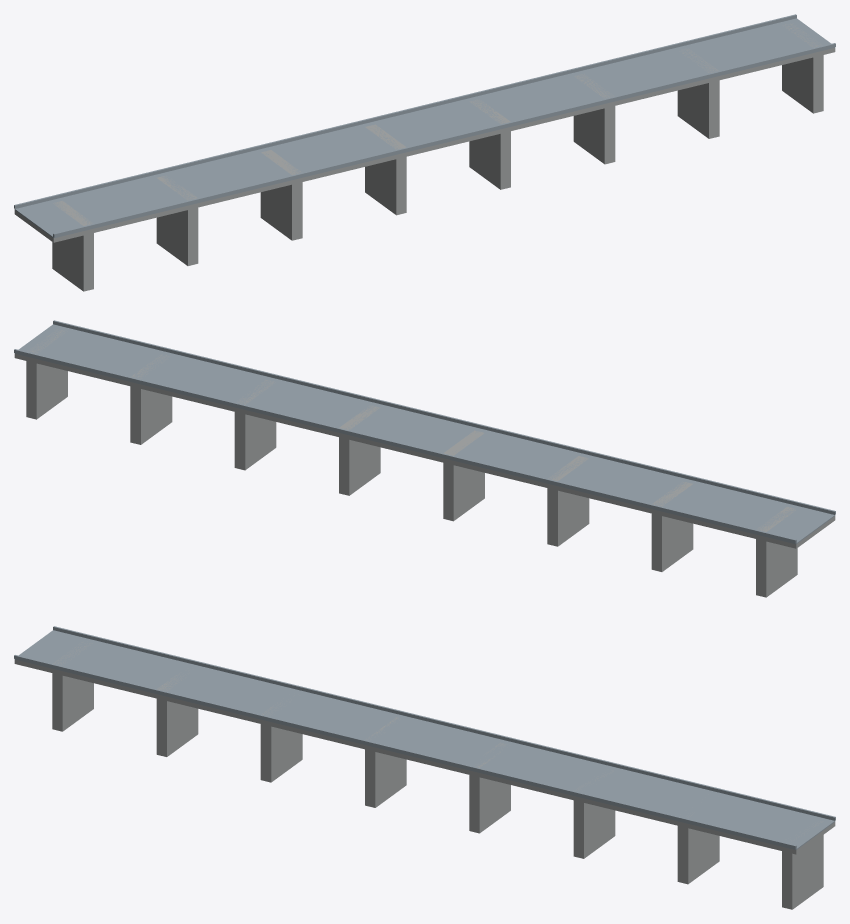
3 renders of one model, top to bottom at view 1: azimuth 30°, elevation 25°; view 2: azimuth 150°, elevation 25°; view 3: azimuth 330°, elevation 25°, orthographic.
Visible parts, largest first — view 1: worldgen; view 2: worldgen; view 3: worldgen.
Boxes of the visible parts, bbox=[...] form: worldgen: bbox=[14, 14, 835, 291]; worldgen: bbox=[14, 320, 835, 597]; worldgen: bbox=[14, 626, 835, 909].
Bounding box in the file's own units: 300 × 25.2 × 26.7.
